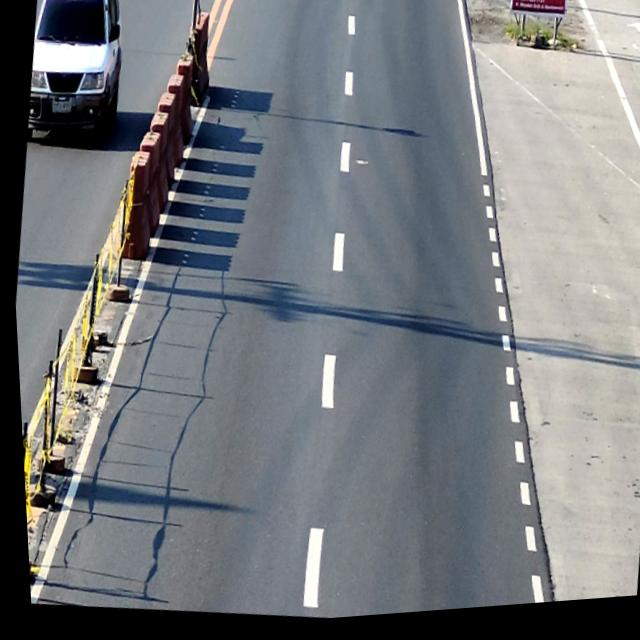Car: (19, 0, 133, 149)
License-Plate: (49, 97, 71, 115)
